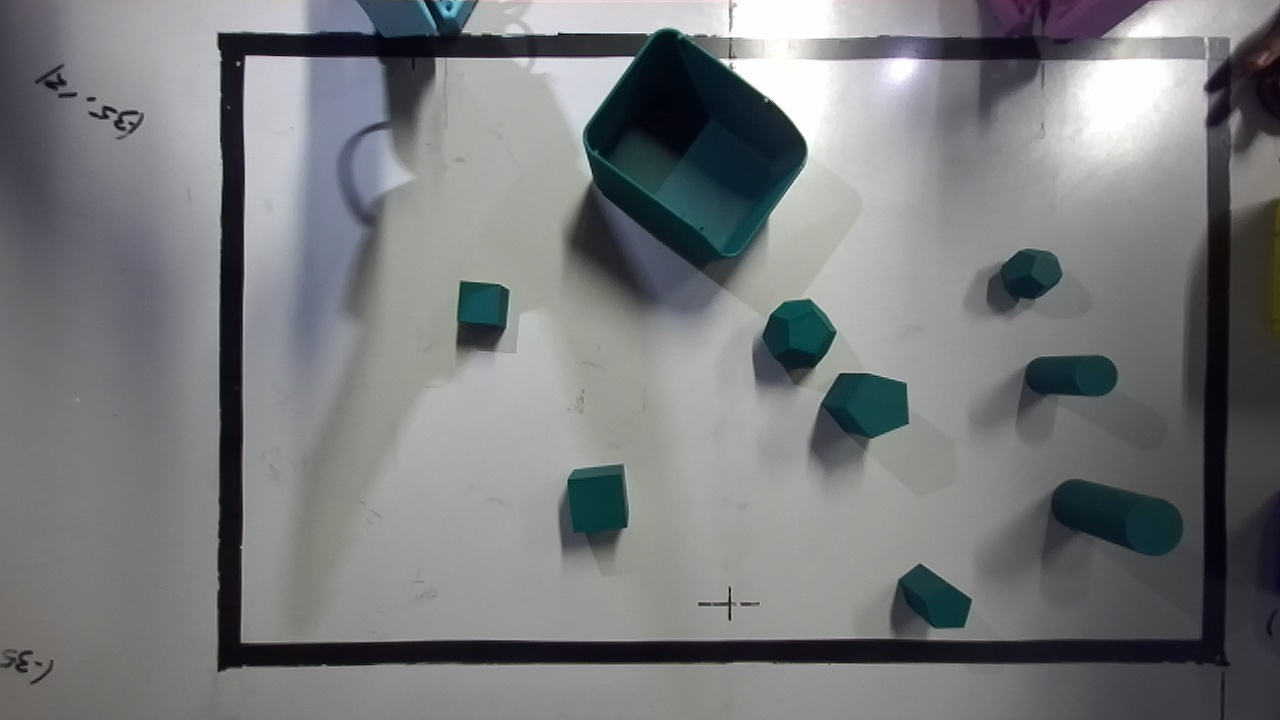bin: (584, 29, 806, 264)
cube: (567, 464, 628, 534), (457, 281, 508, 328)
cylinder: (1051, 480, 1183, 555), (1025, 355, 1117, 395)
dodecahedron: (762, 299, 836, 371), (1000, 248, 1062, 299)
hexagonal: (822, 373, 908, 438), (898, 564, 971, 627)
